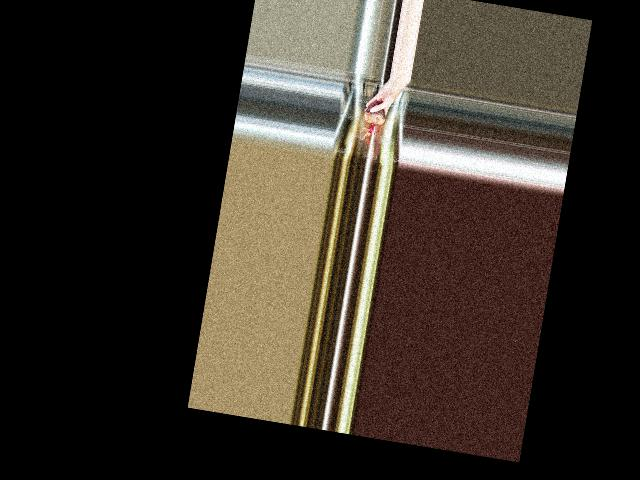beet: (359, 99, 387, 142)
